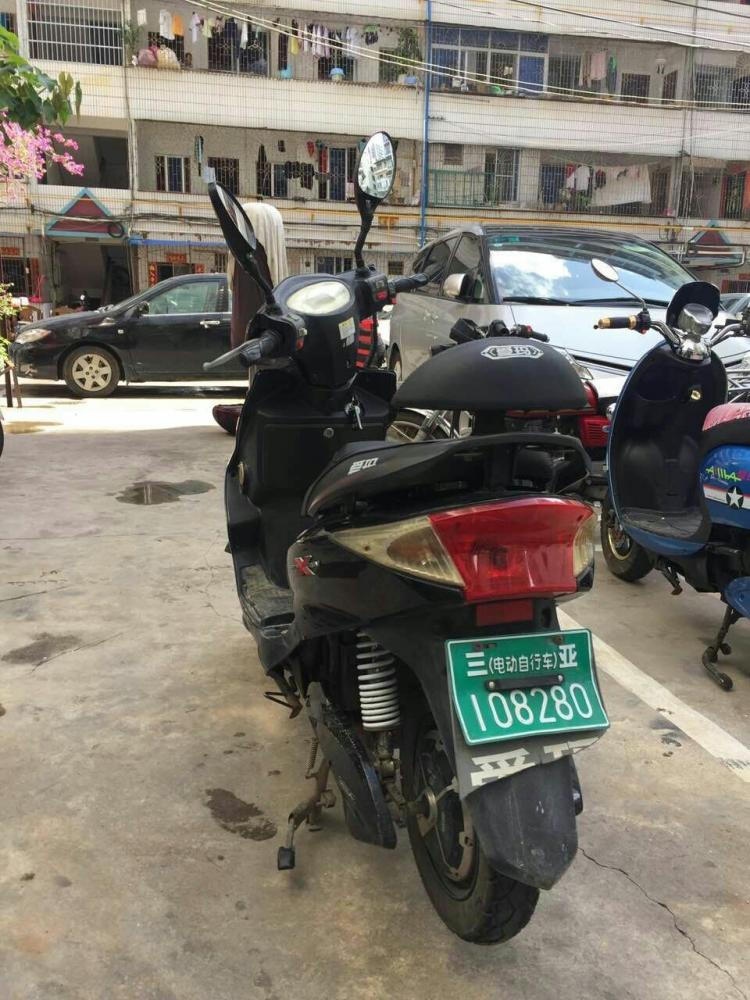non-vehicle: (199, 261, 604, 955), (589, 252, 746, 626)
